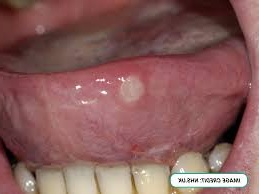Ulcer: (118, 74, 151, 105)
